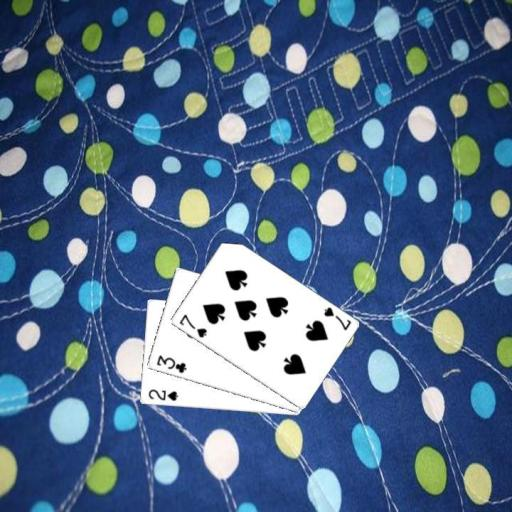2S: (145, 386, 179, 403)
3C: (153, 352, 188, 375)
7S: (320, 304, 353, 332), (176, 311, 208, 339)
